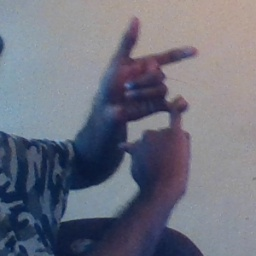S: (94, 13, 208, 177)
